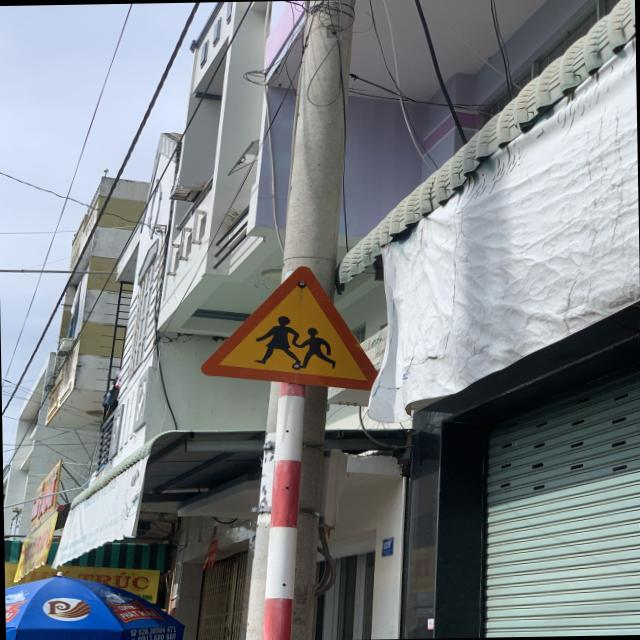Vong_Xuyen: (200, 264, 378, 391)
